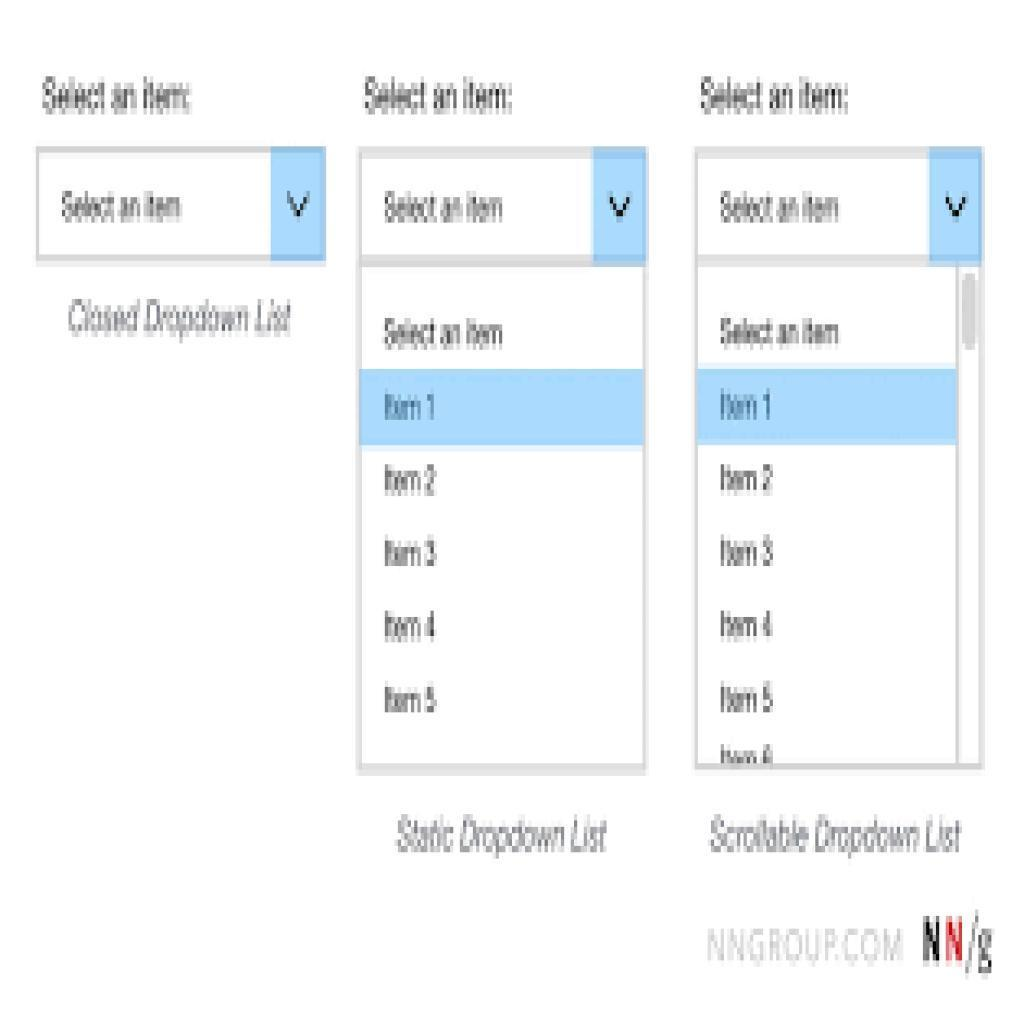dropdown: (694, 150, 983, 264), (359, 153, 652, 264), (37, 151, 328, 260)
